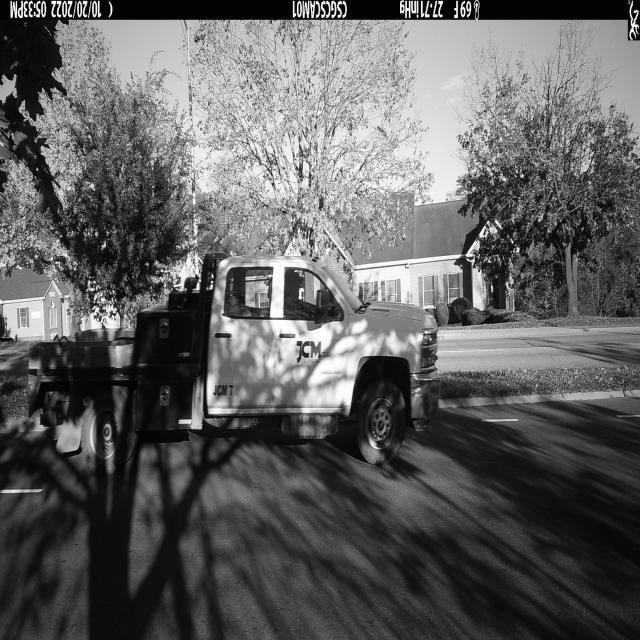Pickup- Utility: (27, 253, 440, 476)
